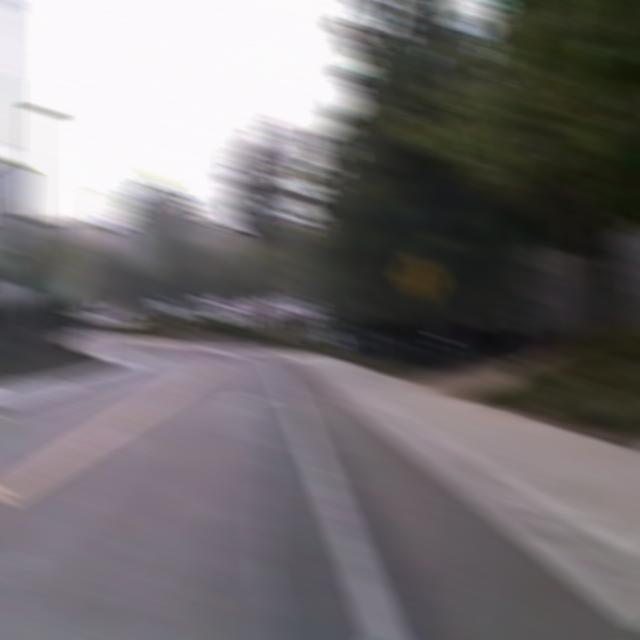pedestrianCrossing: (395, 250, 445, 303)
